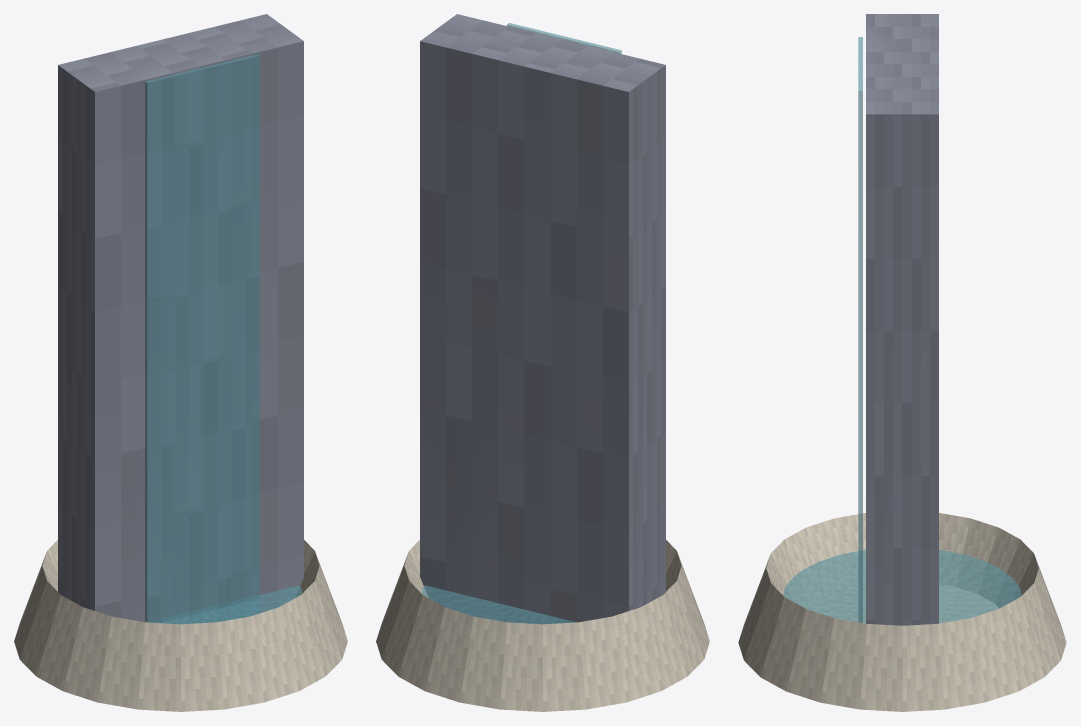
The model's file is cave-and-crystal-networks-shaft-waterfall-9570f021.glb.
The picture shows the model from 3 angles, left to right: view 1: azimuth 30°, elevation 25°; view 2: azimuth 150°, elevation 25°; view 3: azimuth 270°, elevation 25°; orthographic projection.
Visible parts, largest first — view 1: shaft-waterfall; view 2: shaft-waterfall; view 3: shaft-waterfall.
Part boxes in pixels (x1,y1,x2,y2): shaft-waterfall: [14, 14, 347, 711]; shaft-waterfall: [376, 14, 709, 711]; shaft-waterfall: [738, 14, 1066, 711].
Size of the model in its own units: 1.8 by 3.5 by 1.8.
3 materials, 3 textured.
